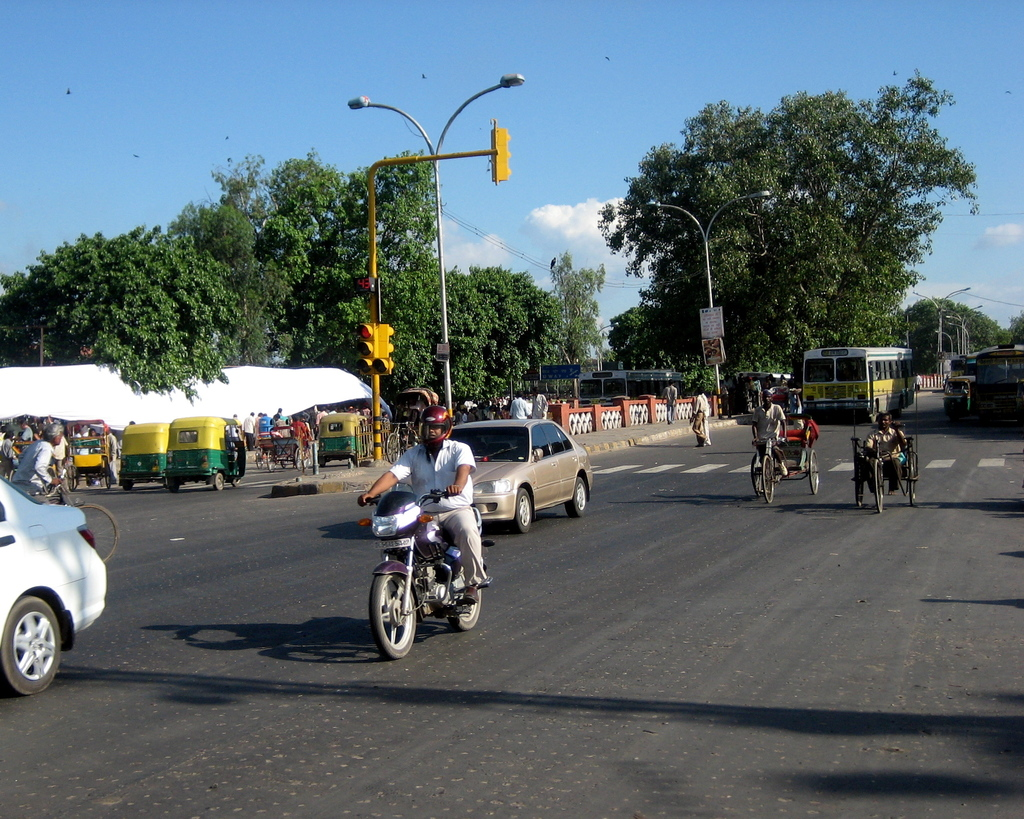mobil: (445, 418, 594, 526)
